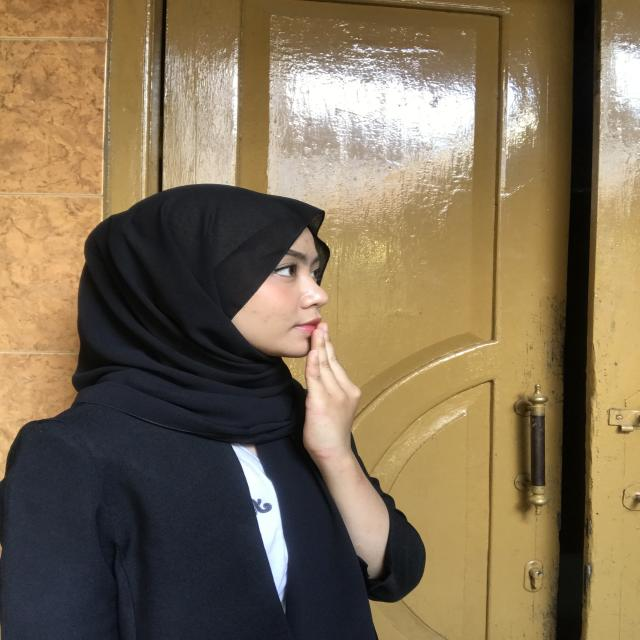ganteng: (273, 311, 392, 499)
